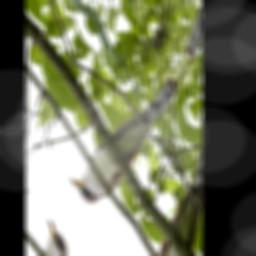Cuckoo: (69, 36, 180, 230)
